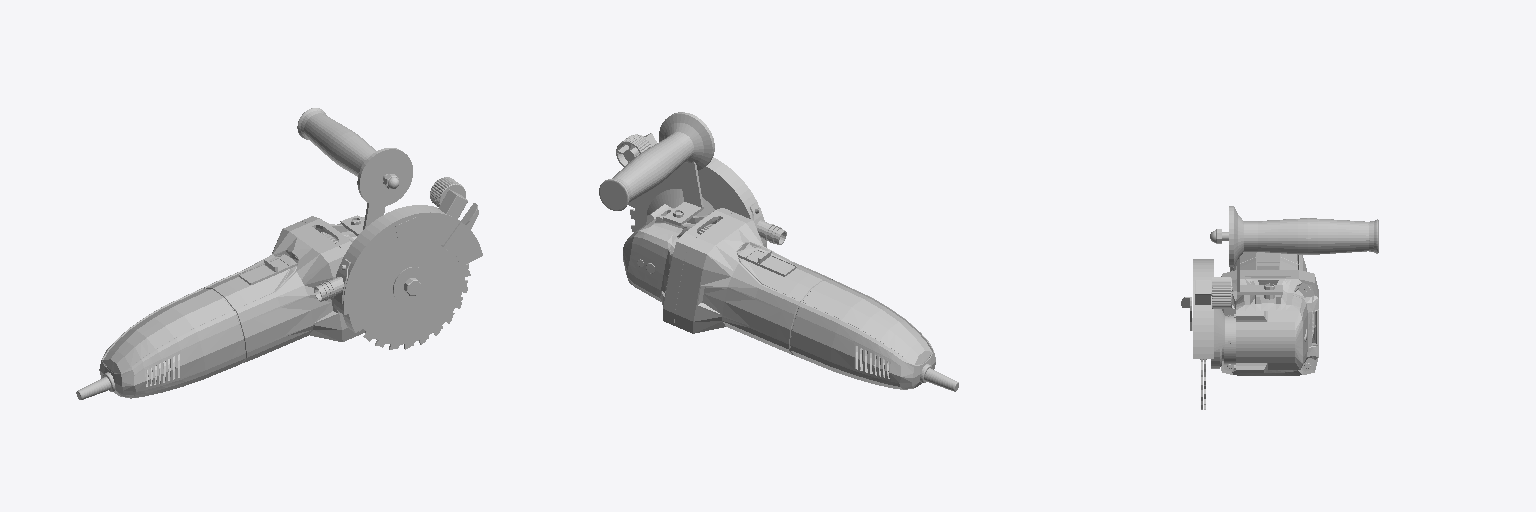
The model's file is Export again.obj.
The picture shows the model from 3 angles: view 1: azimuth 30°, elevation 25°; view 2: azimuth 150°, elevation 25°; view 3: azimuth 270°, elevation 25°; orthographic projection.
Visible parts, largest first — view 1: Box02, Cylinder25, Cylinder10, Cylinder23, Cylinder12, Cylinder26, Box03, Cylinder14, Box04; view 2: Box02, Box03, Cylinder23, Cylinder10, Box04, Cylinder14; view 3: Box03, Cylinder23, Cylinder10, Box02, Cylinder14.
Part boxes in pixels (left/top/right/bottom): Box02: left=99, top=221, right=360, bottom=398; Cylinder25: left=362, top=241, right=470, bottom=349; Cylinder10: left=333, top=205, right=482, bottom=314; Cylinder23: left=297, top=108, right=412, bottom=206; Cylinder12: left=343, top=203, right=478, bottom=332; Cylinder26: left=393, top=267, right=427, bottom=304; Box03: left=302, top=216, right=364, bottom=333; Cylinder14: left=430, top=177, right=465, bottom=207; Box04: left=340, top=203, right=385, bottom=235; Box02: left=674, top=213, right=935, bottom=389; Box03: left=623, top=204, right=734, bottom=325; Cylinder23: left=599, top=112, right=714, bottom=210; Cylinder10: left=628, top=157, right=766, bottom=247; Box04: left=663, top=161, right=703, bottom=225; Cylinder14: left=616, top=134, right=650, bottom=166; Box03: left=1221, top=276, right=1318, bottom=375; Cylinder23: left=1229, top=206, right=1378, bottom=266; Cylinder10: left=1193, top=259, right=1235, bottom=358; Box02: left=1221, top=252, right=1318, bottom=342; Cylinder14: left=1211, top=277, right=1231, bottom=308.
Size of the model in its own units: 133 by 68.36 by 61.8.